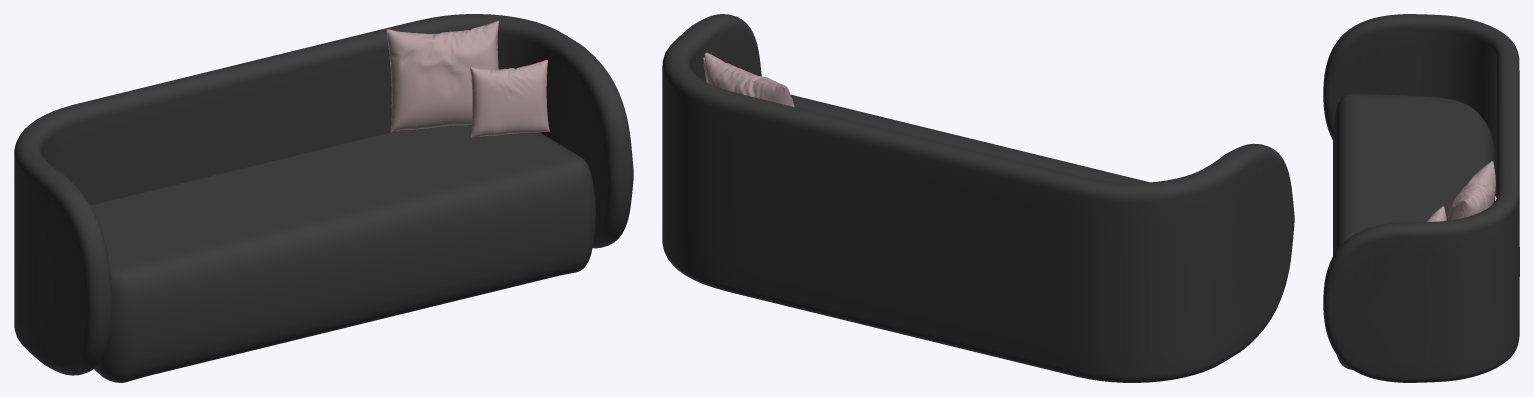
The model's file is sofa2.glb.
3 renders of one model, left to right at view 1: azimuth 30°, elevation 25°; view 2: azimuth 150°, elevation 25°; view 3: azimuth 270°, elevation 25°, orthographic. The views are drawn at different scales.
Parts seen in each view (by area): view 1: Rectangle004, Rectangle005, Box001, Box002; view 2: Rectangle005, Rectangle004, Box001; view 3: Rectangle005, Rectangle004, Box001, Box002.
Boxes of the visible parts, x1,y1,x2,y2 form: Rectangle004: (90,124,595,382); Rectangle005: (14,14,633,375); Box001: (386,21,498,132); Box002: (470,59,549,137); Rectangle005: (662,14,1294,382); Rectangle004: (790,94,1148,182); Box001: (704,52,794,106); Rectangle005: (1323,14,1519,382); Rectangle004: (1333,93,1495,369); Box001: (1447,161,1495,220); Box002: (1427,206,1446,221).
Bounding box in the file's own units: 1.66 × 0.5904 × 0.6336.
